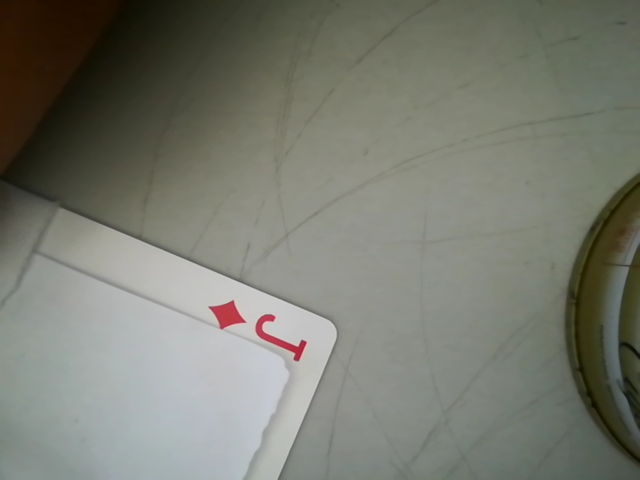fk j: (201, 296, 325, 367)
